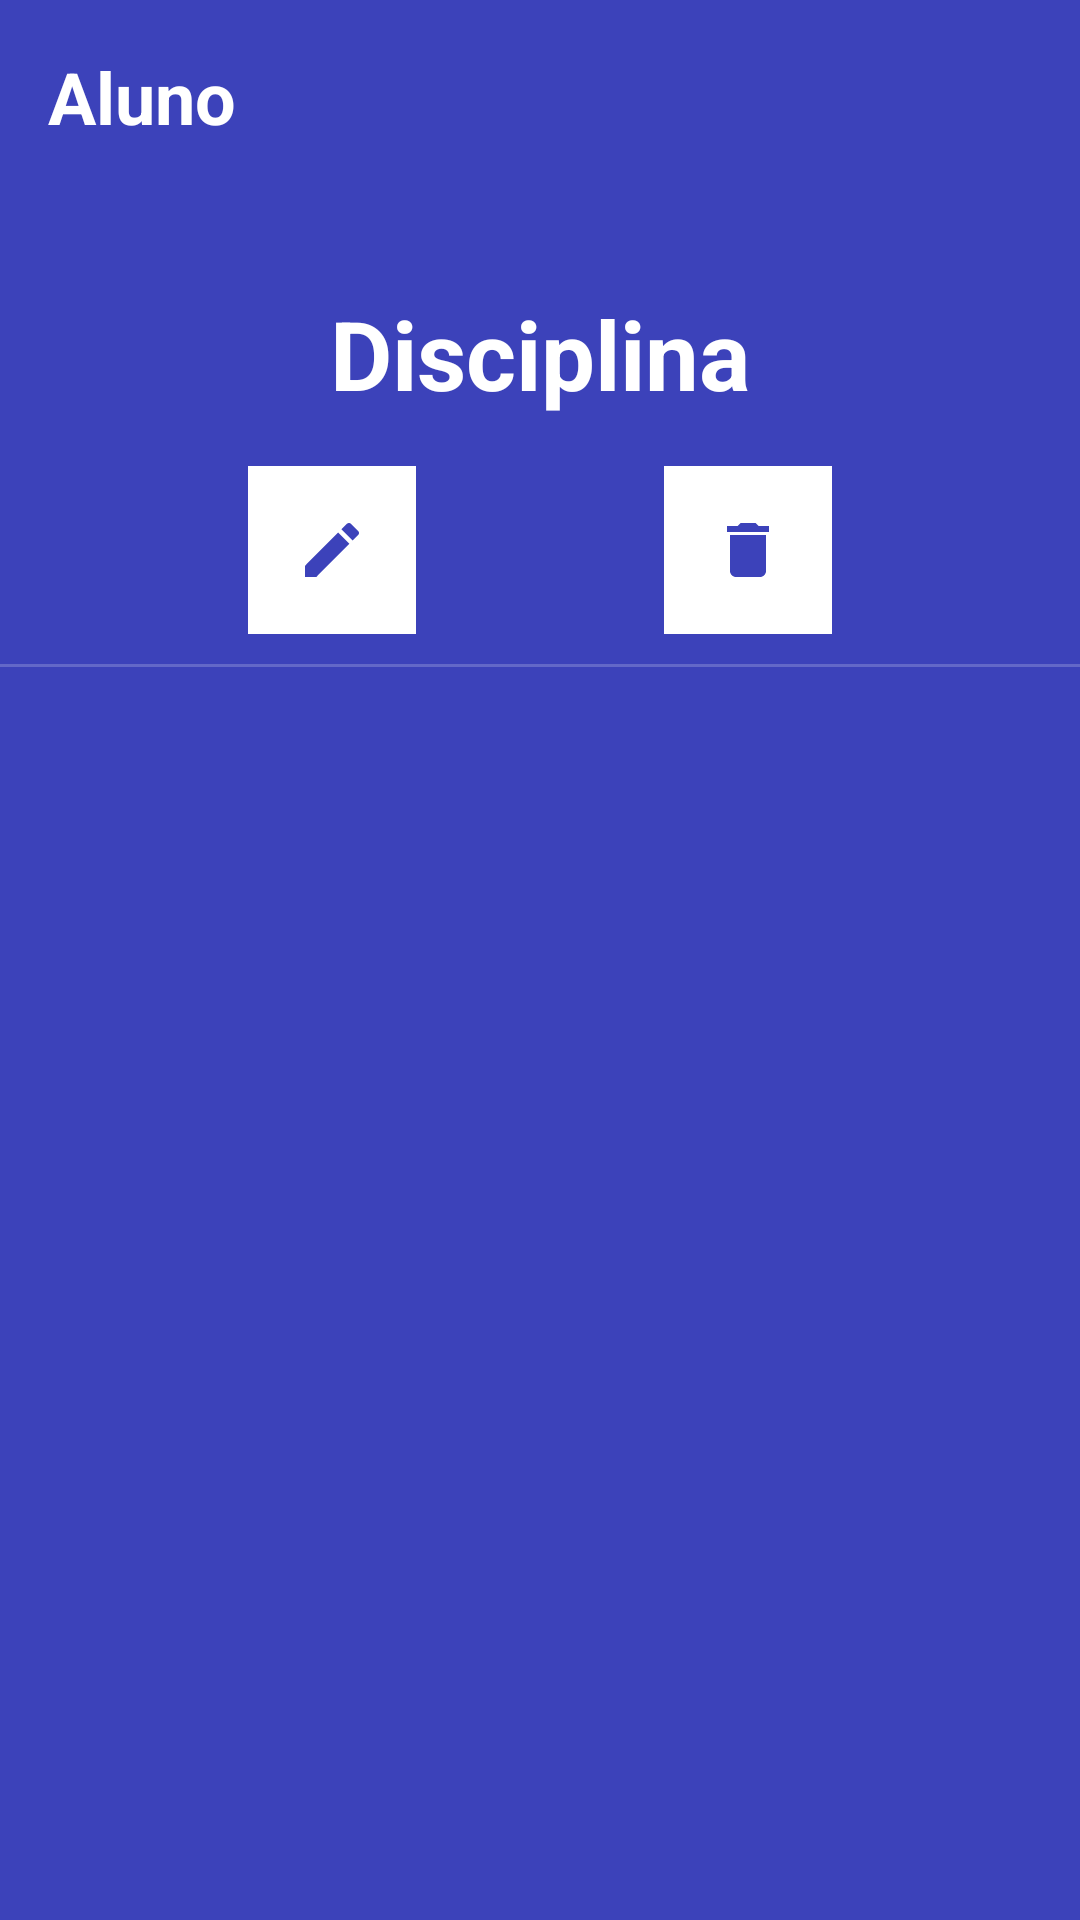

Icons on this 1080 x 1920 Android screen, each with its box as Rect(x1, y1, x2, y2):
Deletar Aluno: Rect(664, 466, 832, 634)
Editar Aluno: Rect(248, 466, 416, 634)
